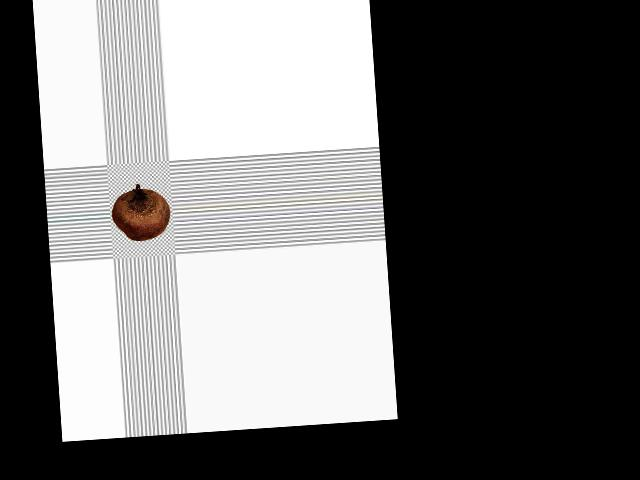beet: (110, 181, 171, 242)
